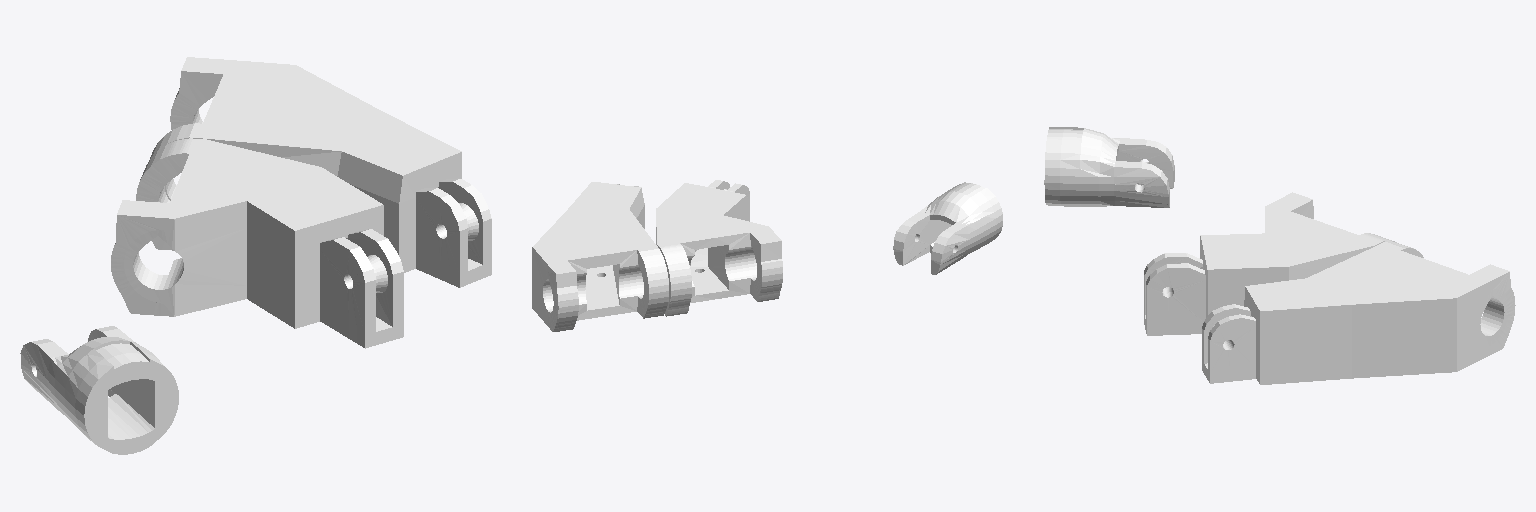
The robot description file, URDF, robot "rightHand":
<?xml version="1.0"?>
<robot name="rightHand">
  <link name="wristLarge">
    <visual>
      <geometry>
        <mesh filename="package://inmoov_urdf/meshes/rightHand/WristlargeV4.stl" scale=".001 .001 .001"/>
      </geometry>
      <material name="creme">
        <color rgba="255 253 208 1"/>
      </material>
    </visual>
  </link>

  <link name="wristPinky">
    <visual>
      <geometry>
        <mesh filename="package://inmoov_urdf/meshes/rightHand/wristSmallPinky.stl" scale=".001 .001 .001"/>
      </geometry>
      <material name="creme"/>
      <origin rpy="0 0 -0.90" xyz="-0.01 0.0115 -0.0102"/>
    </visual>
  </link>

  <joint name="pinkyKnuck1" type="revolute">
    <limit upper="0.3" lower="0.0" effort="1000.0" velocity="0.5"/>
    <origin rpy="0 0 4.03171057" xyz="0.005 -0.0105 .0105"/>
    <parent link="wristLarge"/>
    <child link="wristPinky"/>
  </joint>

  <link name="wristRing">
    <visual>
      <geometry>
        <mesh filename="package://inmoov_urdf/meshes/rightHand/wristSmallRing.stl" scale=".001 .001 .001"/>
      </geometry>
      <origin rpy="0 0 -0.90" xyz="-0.01 0.0115 -0.0102"/>
      <material name="creme"/>
    </visual>
  </link>

  <joint name="ringKnuck1" type="revolute">
    <limit upper="0.23" lower="0.0" effort="1000.0" velocity="0.5"/>
    <origin rpy="0 0 4.03171057" xyz="0.005 -0.0105 0.0105"/>
    <parent link="wristLarge"/>
    <child link="wristRing"/>
  </joint>

  <link name="indexSeg6">
    <visual>
      <geometry>
        <mesh filename="package://inmoov_urdf/meshes/rightHand/indexSeg6.stl" scale=".001 .001 .001"/>
      </geometry>
      <origin rpy="-1.570796 0 0" xyz="0.01 -0.0207 0.0008"/>
      <material name="creme"/>
    </visual>
  </link>

  <joint name="indexKnuck1" type="revolute">
    <limit upper="-1.74533" lower="0.0" effort="1000.0" velocity="0.5"/>
    <origin rpy="0 0 -0.0875" xyz="-0.0352 -0.0505 0.0107"/>
    <parent link="wristLarge"/>
    <child link="indexSeg6"/>
  </joint>
</robot>

--- What the picture shows (computed from the rendered views, not written in the file) ---
3 views of the same robot in one strip: view 1: azimuth 30°, elevation 25°; view 2: azimuth 150°, elevation 25°; view 3: azimuth 270°, elevation 25° (orthographic).
Robot: rightHand — 4 links, 3 joints (3 revolute); root link wristLarge; default pose: every joint at zero.
Visible links, largest first — view 1: wristRing, wristPinky, indexSeg6; view 2: wristPinky, wristRing, indexSeg6; view 3: wristPinky, wristRing, indexSeg6.
Boxes of the visible links, box(x1,y1,x2,y2) form: wristRing: box(111, 138, 403, 348); wristPinky: box(150, 57, 491, 287); indexSeg6: box(20, 326, 178, 454); wristPinky: box(532, 182, 668, 331); wristRing: box(656, 180, 782, 316); indexSeg6: box(893, 182, 1002, 274); wristPinky: box(1202, 241, 1515, 384); wristRing: box(1144, 192, 1394, 335); indexSeg6: box(1044, 127, 1174, 207).
Bounding box of the posed robot: 0.0975 × 0.1022 × 0.0196 m (x, y, z).
Meshes: 4 distinct files referenced, 3 mesh visuals loaded (3 binary STL); not drawn: 1 (reference not matched to a file when rendering).